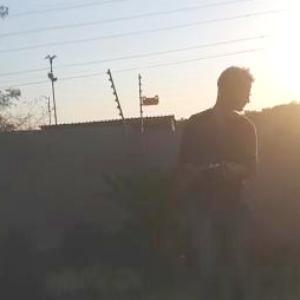follow: (172, 61, 264, 299)
